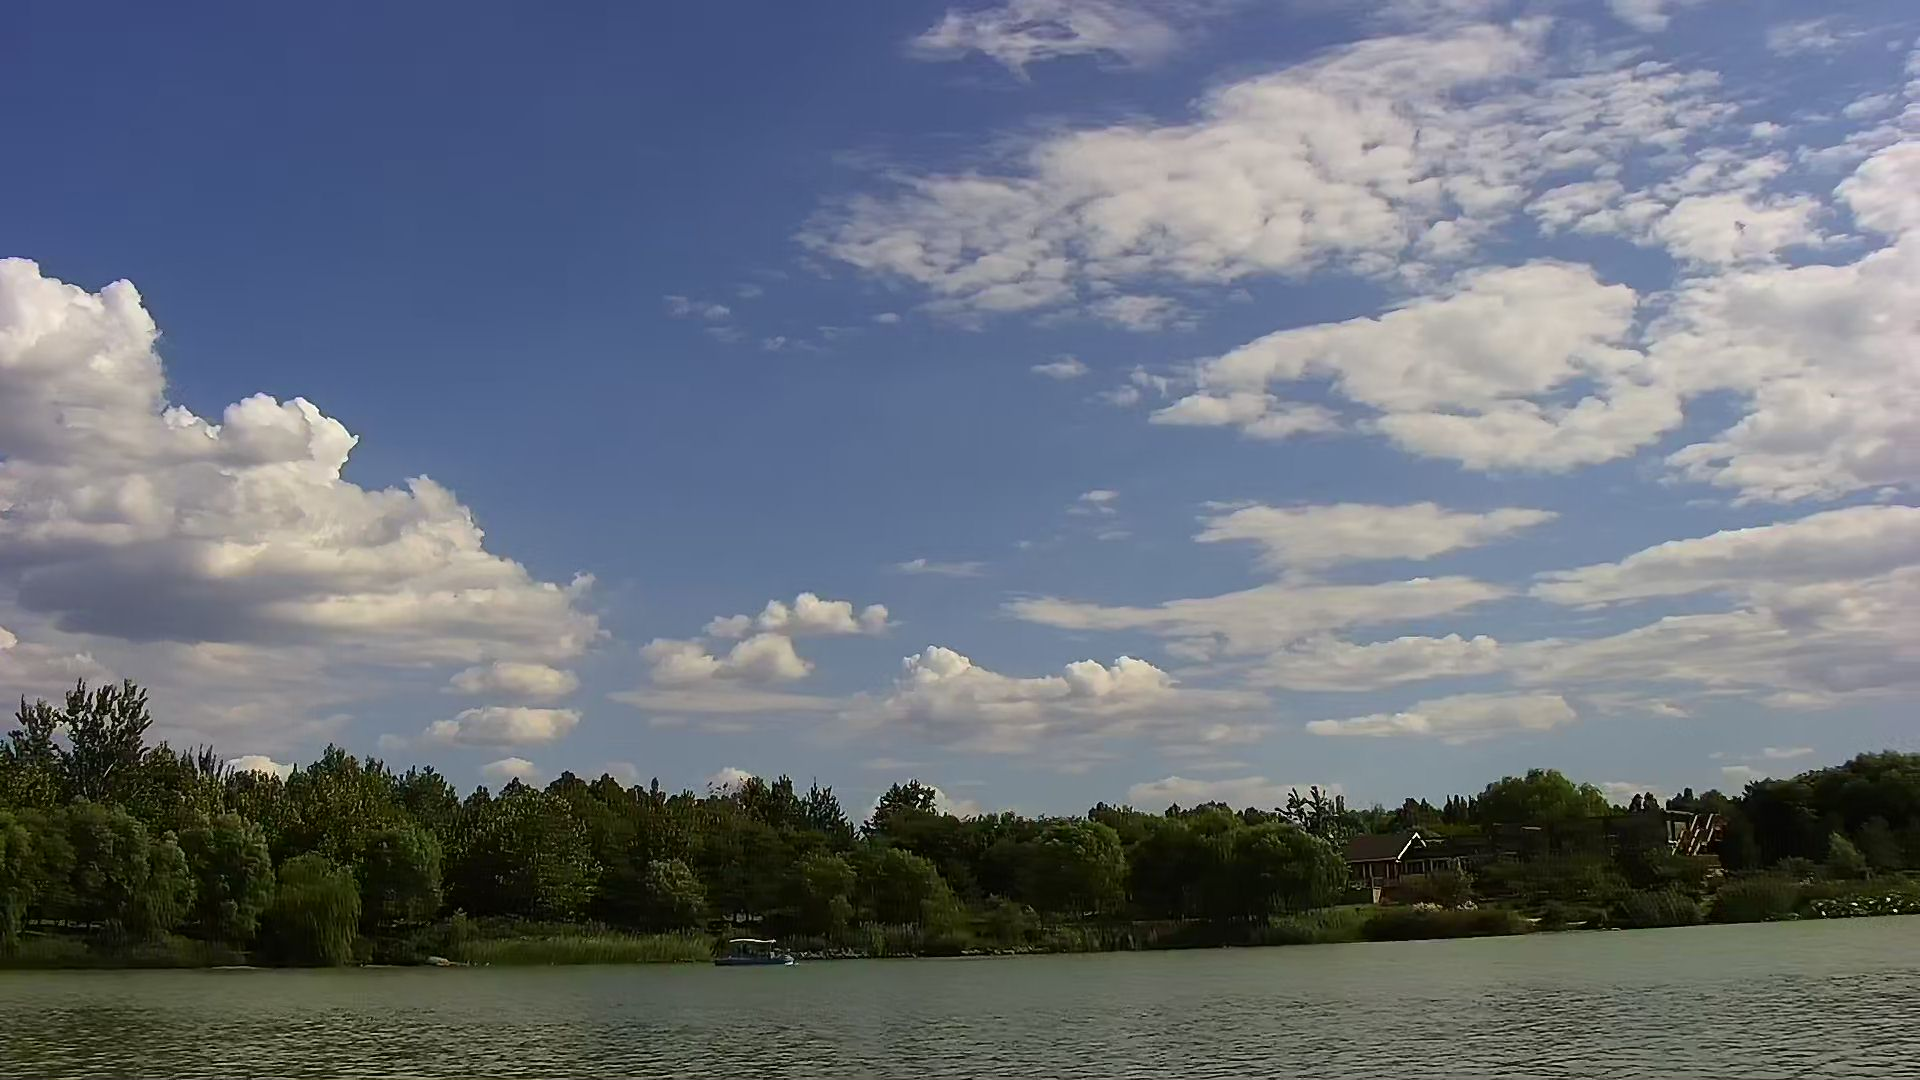boat: (708, 928, 800, 972)
